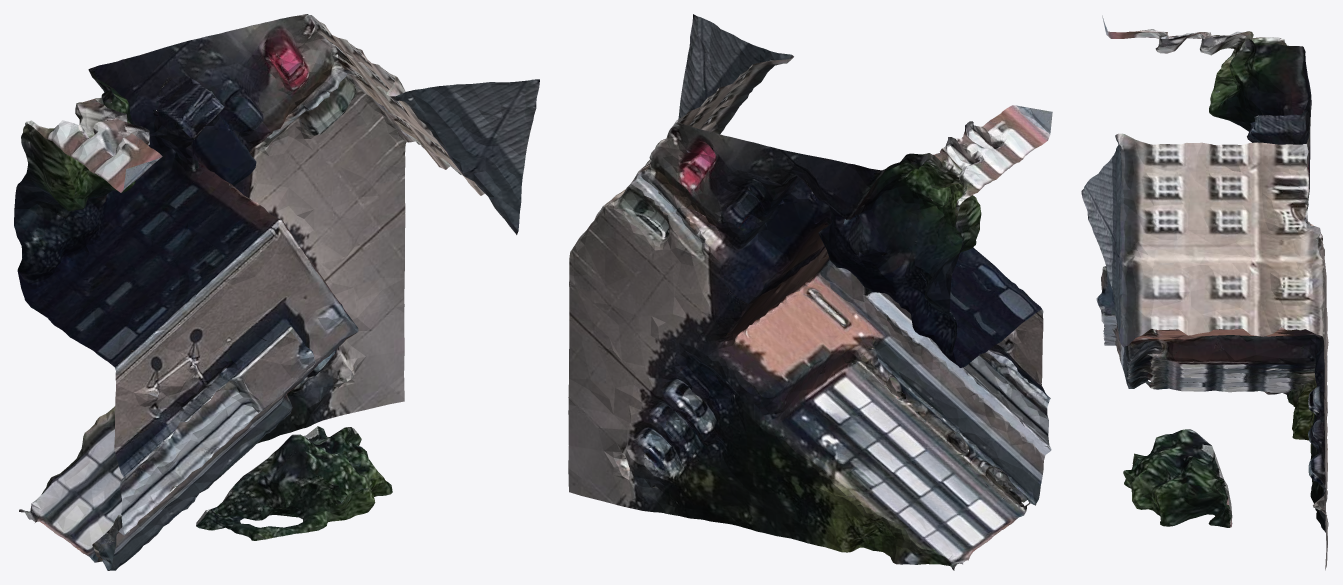
Rendered from Tile_+031_+021_L21_00032000.obj.
3 views of the same model, side by side, from view 1: azimuth 30°, elevation 25°; view 2: azimuth 150°, elevation 25°; view 3: azimuth 270°, elevation 25° (orthographic). The views are drawn at different scales.
Bounding box in the file's own units: 31.38 × 31.38 × 18.5.
Materials: 1 (1 with a texture image).
